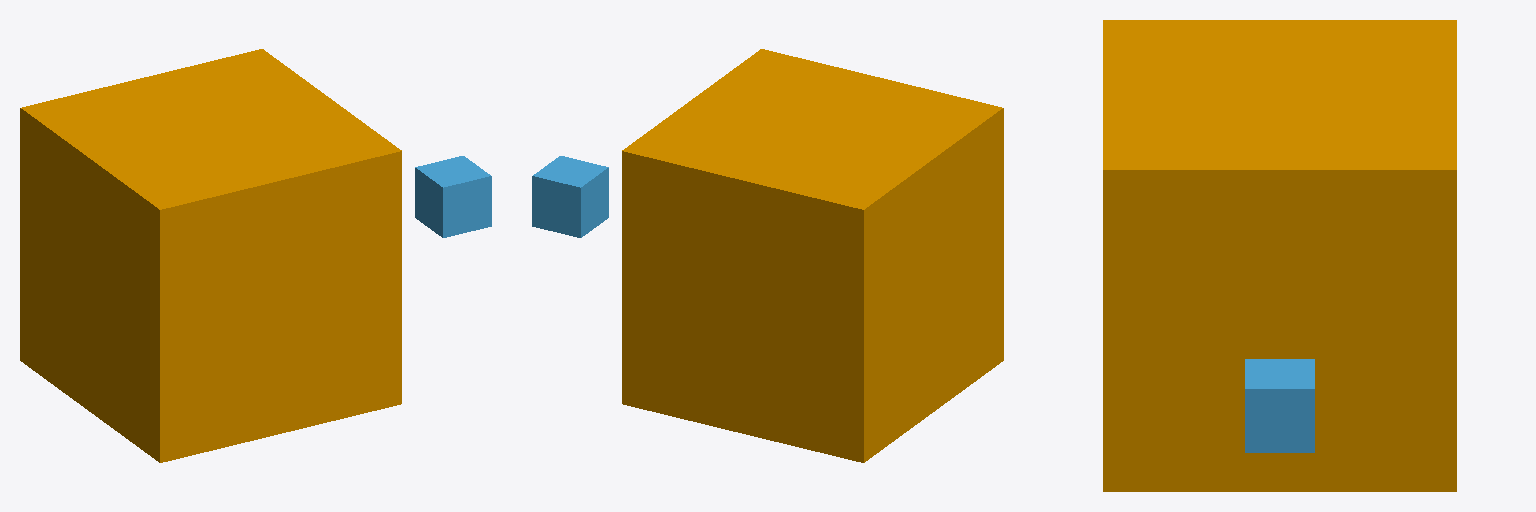
robot.urdf — visual_only_dummy:
<?xml version="1.0"?>
<robot name="visual_only_dummy">
  <link name="base">
    <inertial>
      <mass value="1"/>
      <inertia ixx="0.01" iyy="0.01" izz="0.01" ixy="0" ixz="0" iyz="0"/>
    </inertial>
    <visual>
      <geometry>
        <box size="0.1 0.1 0.1"/>
      </geometry>
    </visual>
  </link>
  <link name="pad">
    <visual>
      <geometry>
        <box size="0.02 0.02 0.02"/>
      </geometry>
    </visual>
  </link>
  <link name="pad_inertia">
    <inertial>
      <origin xyz="0.01 0 0"/>
      <mass value="0.2"/>
      <inertia ixx="0.01" iyy="0.02" izz="0.03" ixy="0" ixz="0" iyz="0"/>
    </inertial>
  </link>

  <joint name="pad_joint" type="fixed">
    <origin xyz="0.1 0 0"/>
    <parent link="base"/>
    <child link="pad"/>
  </joint>
  <joint name="pad_inertia_joint" type="fixed">
    <parent link="pad"/>
    <child link="pad_inertia"/>
  </joint>
</robot>

--- Render facts (derived) ---
The picture shows the robot from 3 angles, left to right: view 1: azimuth 30°, elevation 25°; view 2: azimuth 150°, elevation 25°; view 3: azimuth 270°, elevation 25°; orthographic projection.
Model visual_only_dummy with 3 links and 2 joints (2 fixed), rooted at base, posed every joint at zero.
Links seen in each view (by area): view 1: base, pad; view 2: base, pad; view 3: base, pad.
Boxes of the visible links, x1,y1,x2,y2 form: base: [20, 49, 401, 462]; pad: [415, 156, 491, 237]; base: [622, 49, 1003, 462]; pad: [532, 156, 608, 237]; base: [1103, 20, 1456, 491]; pad: [1245, 359, 1314, 452].
Size in the robot's own frame: 0.16 by 0.1 by 0.1 metres.
Geometry: primitives only (box / cylinder / sphere), no mesh files.
